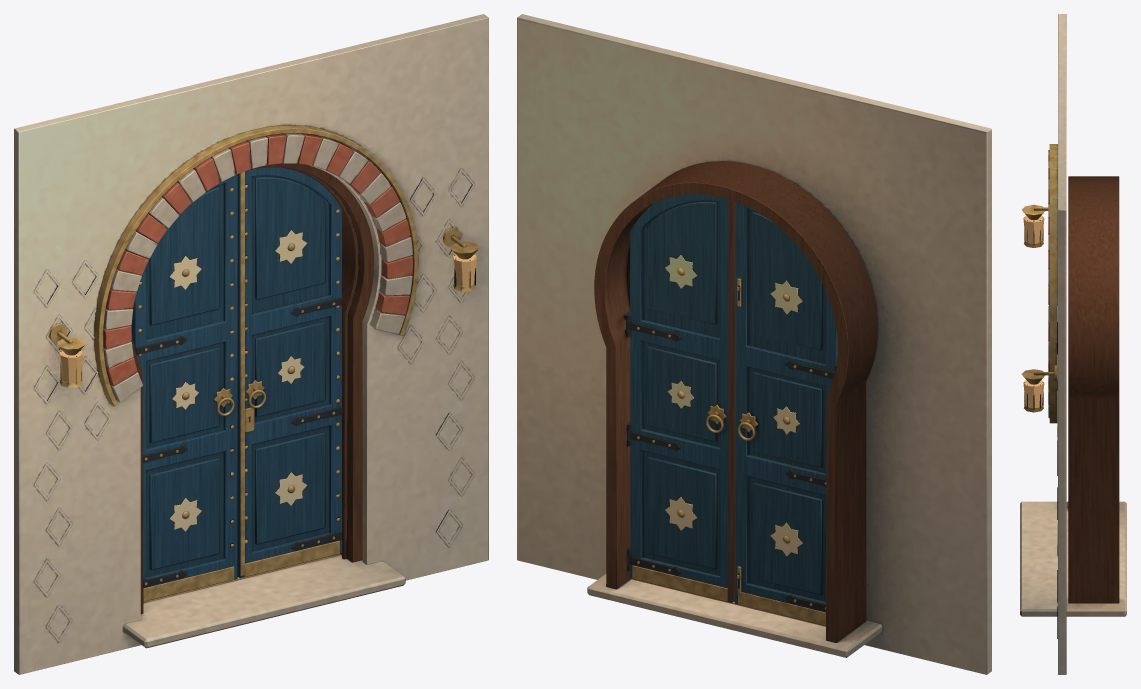
File: moroccan-gate.glb
The picture shows the model from 3 angles, left to right: view 1: azimuth 30°, elevation 25°; view 2: azimuth 150°, elevation 25°; view 3: azimuth 270°, elevation 25°; orthographic projection. The views are drawn at different scales.
Visible parts, largest first — view 1: Fixed baked joinery, Baked leaf Gate_leaf_R, Baked leaf Gate_leaf_L; view 2: Fixed baked joinery, Baked leaf Gate_leaf_R, Baked leaf Gate_leaf_L; view 3: Fixed baked joinery, Lamp glass, Lamp glass.001.
Boxes of the visible parts, x1,y1,x2,y2 form: Fixed baked joinery: (14,14,488,674); Baked leaf Gate_leaf_R: (237,167,342,578); Baked leaf Gate_leaf_L: (131,174,237,601); Fixed baked joinery: (517,14,991,674); Baked leaf Gate_leaf_R: (626,194,735,602); Baked leaf Gate_leaf_L: (734,202,837,625); Fixed baked joinery: (1020,14,1126,674); Lamp glass: (1023,215,1044,243); Lamp glass.001: (1023,380,1044,407).
Size of the model in its own units: 2.7 by 2.98 by 0.6199.
10 materials, 9 textured.
